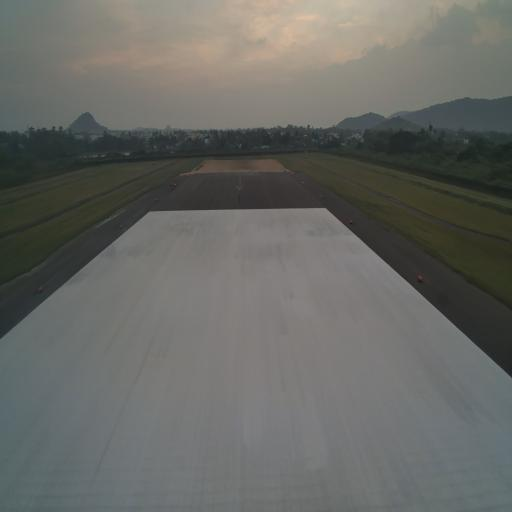on: (36, 282, 44, 296), (416, 272, 424, 284), (119, 222, 123, 230), (350, 217, 352, 225)
